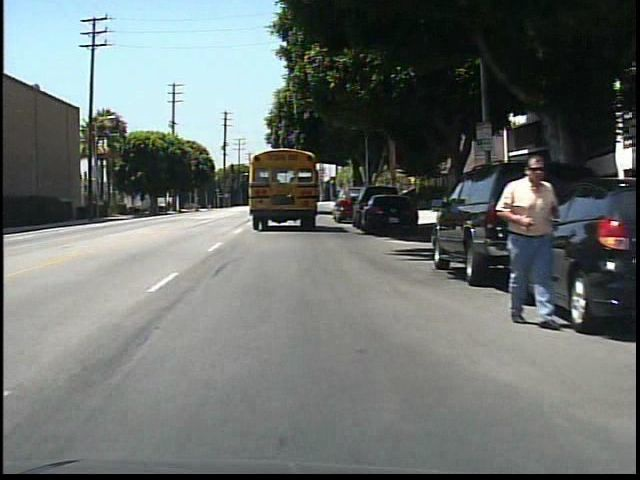person: (491, 147, 563, 334)
